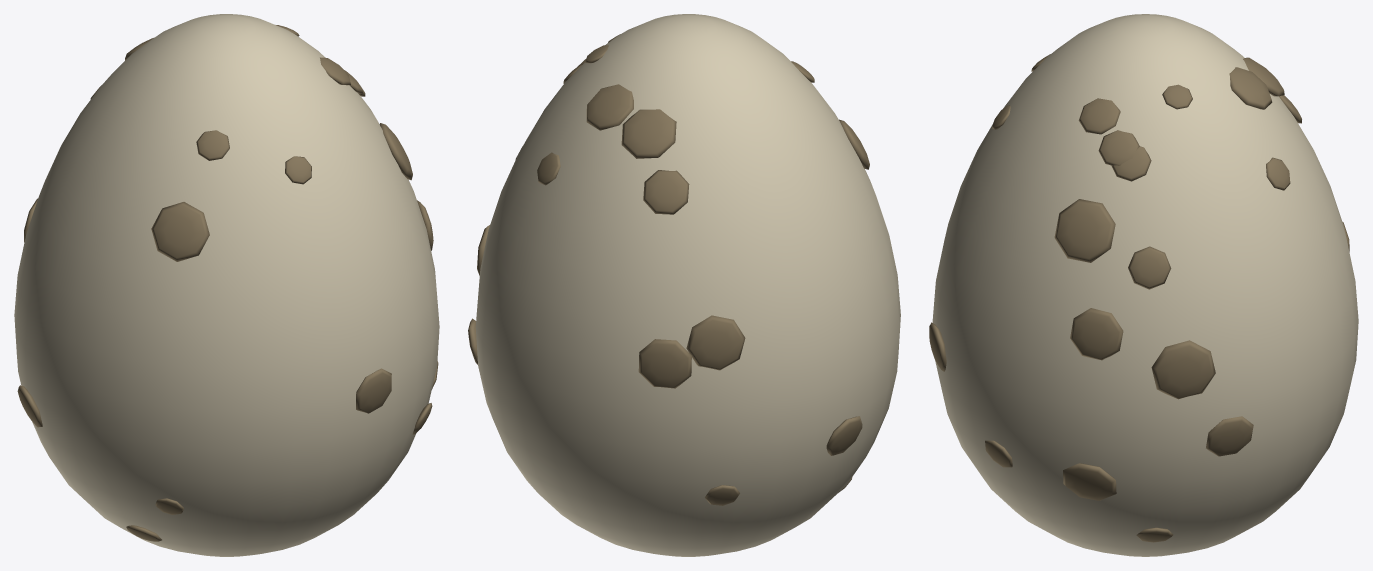
Rendered from egg.glb.
3 renders of one model, left to right at view 1: azimuth 30°, elevation 25°; view 2: azimuth 150°, elevation 25°; view 3: azimuth 270°, elevation 25°, orthographic.
Parts seen in each view (by area): view 1: egg, spot, spot.021, spot.003, spot.001, spot.020; view 2: egg, spot.025, spot.006, spot.018, spot.017, spot.012, spot.004, spot.007, spot.014; view 3: egg, spot.001, spot.002, spot.011, spot.023, spot.015, spot.016, spot.012, spot.024, spot.013, spot.010, spot.006 (+3 smaller).
Part boxes in pixels (x1,y1,x2,y2): egg: (14,14,439,556); spot: (151,202,209,261); spot.021: (356,368,391,413); spot.003: (196,130,229,160); spot.001: (379,123,412,180); spot.020: (285,156,311,184); egg: (475,14,900,556); spot.025: (686,315,745,370); spot.006: (621,109,676,158); spot.018: (638,339,691,388); spot.017: (643,170,689,214); spot.012: (586,84,633,130); spot.004: (826,416,862,455); spot.007: (537,152,560,185); spot.014: (705,485,739,505); egg: (932,14,1358,556); spot.001: (1054,199,1115,262); spot.002: (1151,340,1215,399); spot.011: (1070,308,1123,360); spot.023: (1063,463,1116,500); spot.015: (1206,416,1253,456); spot.016: (1128,246,1171,289); spot.012: (1229,67,1272,109); spot.024: (1078,98,1120,134); spot.013: (1098,130,1139,165); spot.010: (1111,146,1151,181); spot.006: (1243,57,1284,96).
Size of the model in its own units: 0.2266 by 0.297 by 0.2252.
